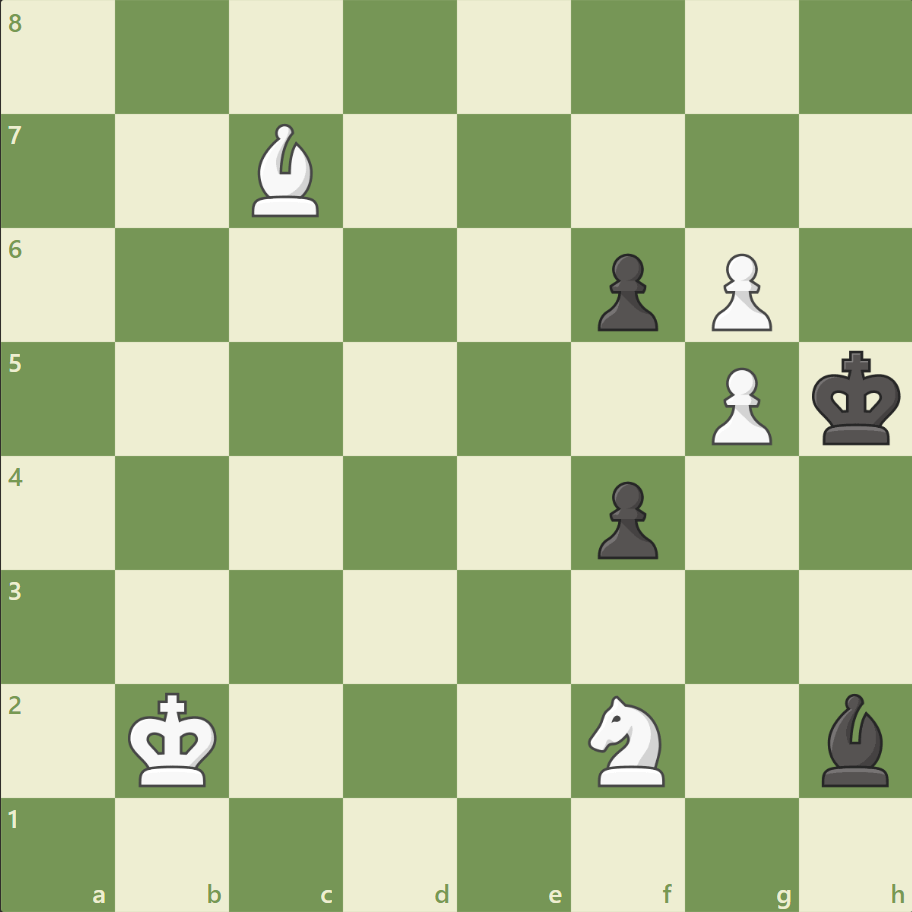B: (244, 120, 328, 222)
K: (124, 685, 224, 793)
N: (579, 688, 676, 791)
P: (701, 246, 776, 337), (701, 359, 776, 450)
b: (812, 687, 896, 790)
k: (806, 344, 906, 452)
p: (588, 246, 662, 337), (588, 473, 662, 564)
